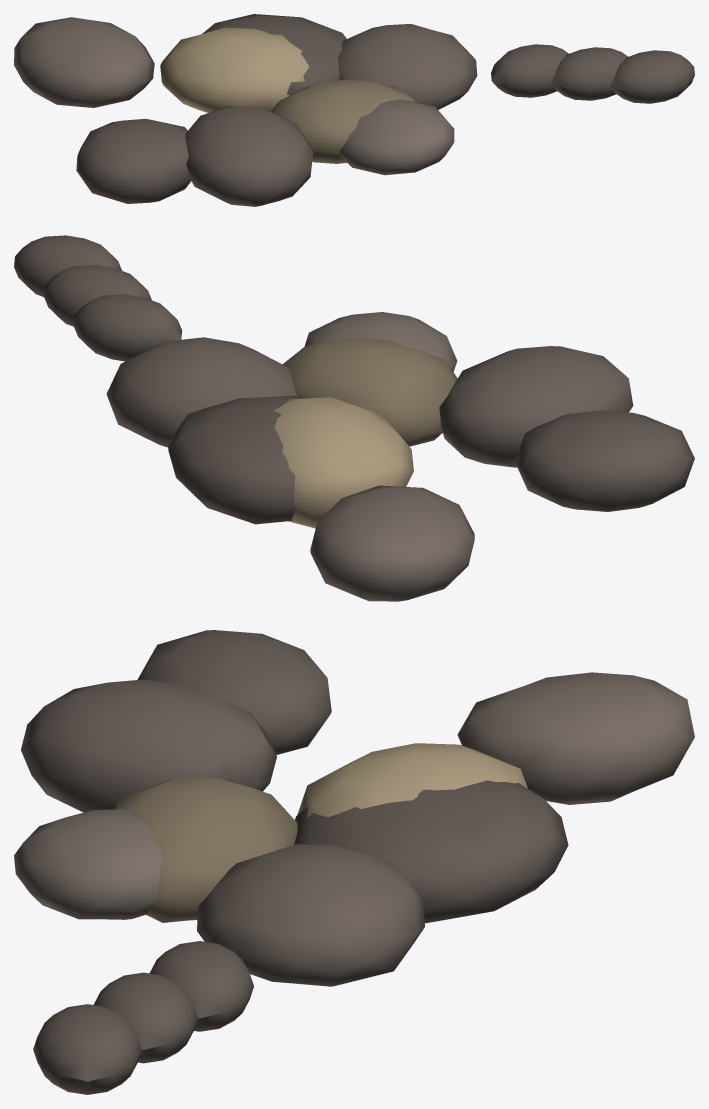
Rendered from stone_scatter_b.glb.
3 renders of one model, top to bottom at view 1: azimuth 30°, elevation 25°; view 2: azimuth 150°, elevation 25°; view 3: azimuth 270°, elevation 25°, orthographic. The views are drawn at different scales.
Visible parts, largest first — view 1: Surface; view 2: Surface; view 3: Surface.
Part boxes in pixels (bbox=[...]): Surface: bbox=[14, 14, 694, 206]; Surface: bbox=[14, 235, 694, 601]; Surface: bbox=[14, 630, 694, 1094].
Size of the model in its own units: 2.75 by 0.3576 by 1.82.
